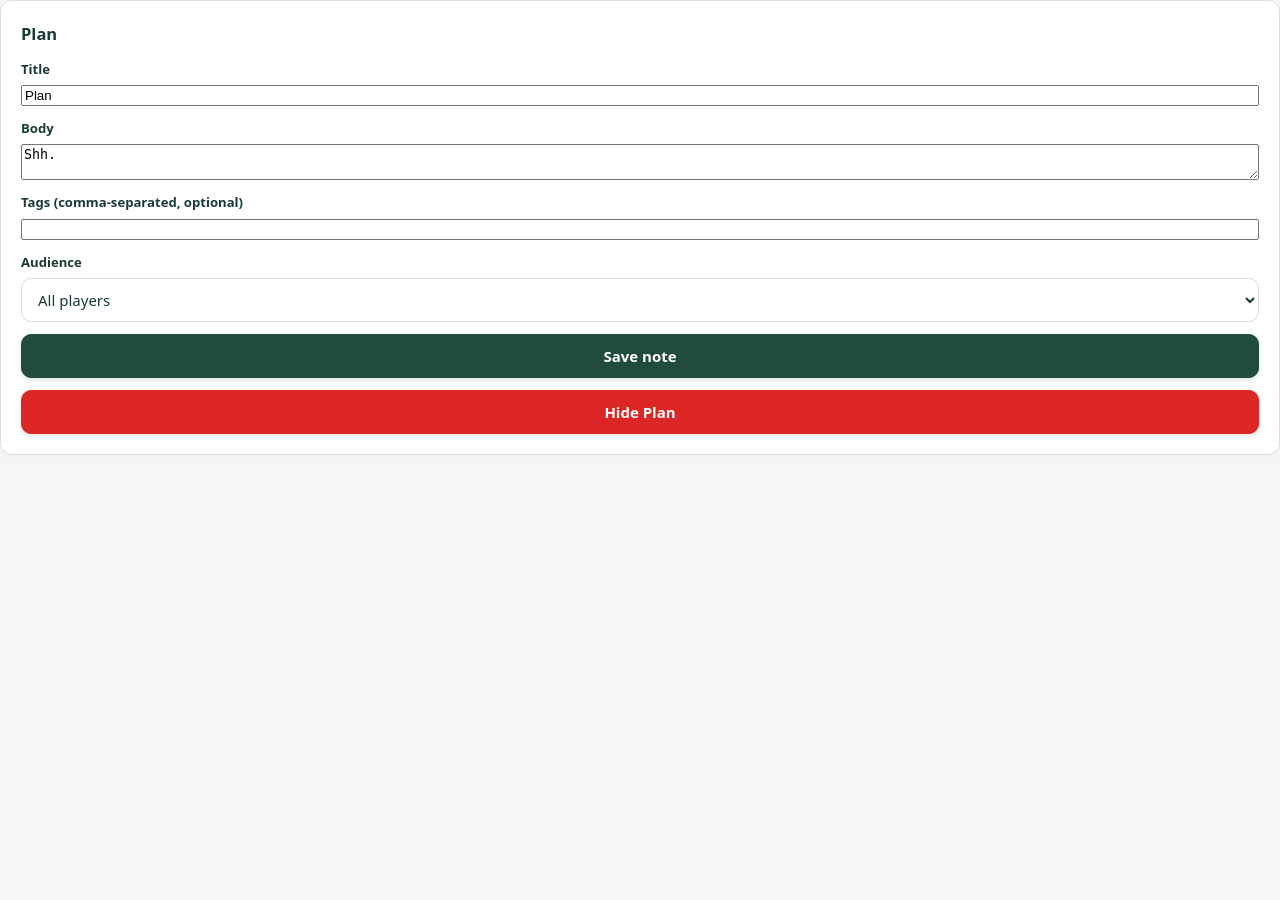
it: ContentEditor › disables Save and hides edit controls while the note is deleted
What coordinates should you click on to do the following:
click the button "Hide Plan"
I would click on:
 (640, 412)
Its box is [21,390,1259,434].
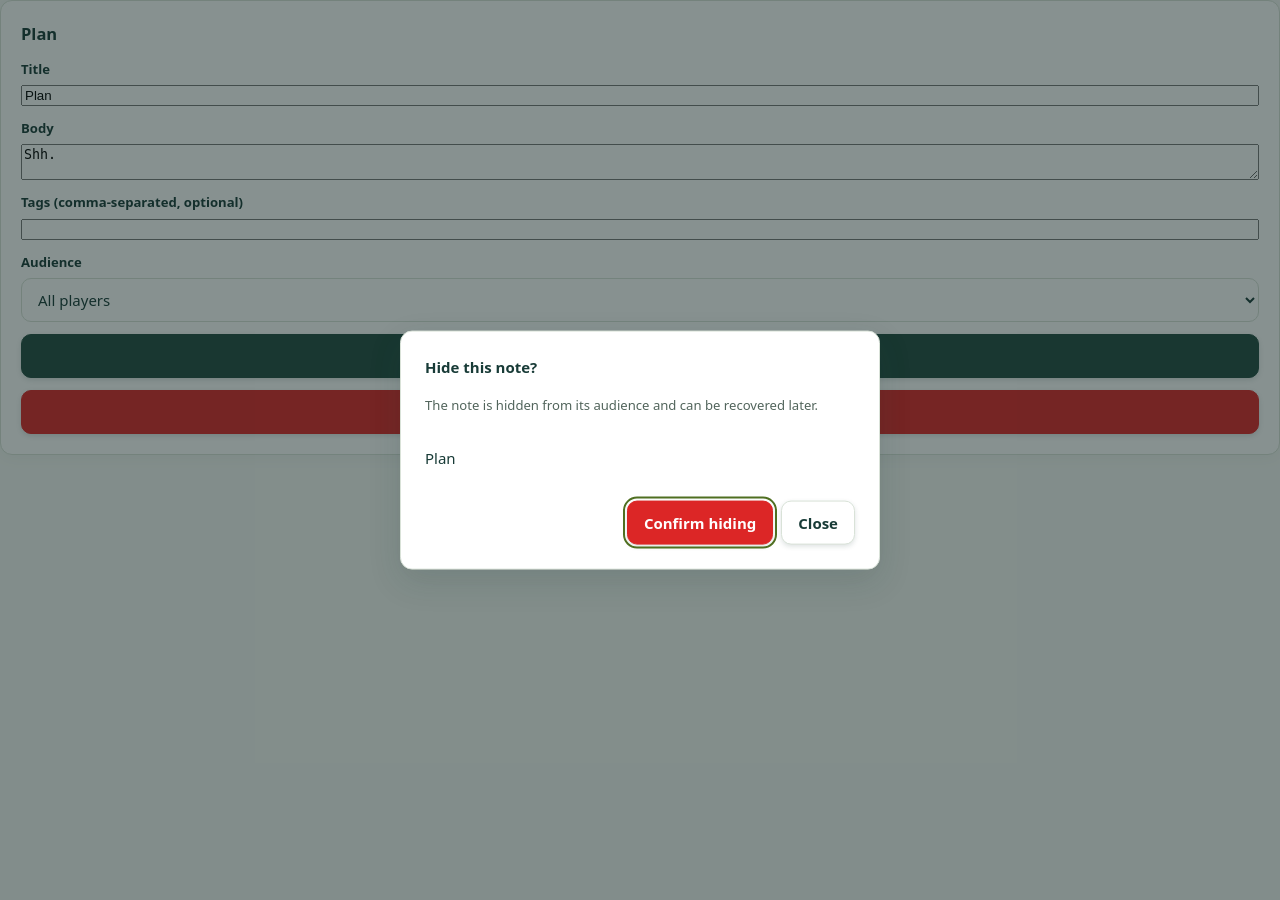
What coordinates should you click on to do the following:
click the button "Confirm hiding"
I would click on:
 (700, 522)
Its box is [627,500,773,544].
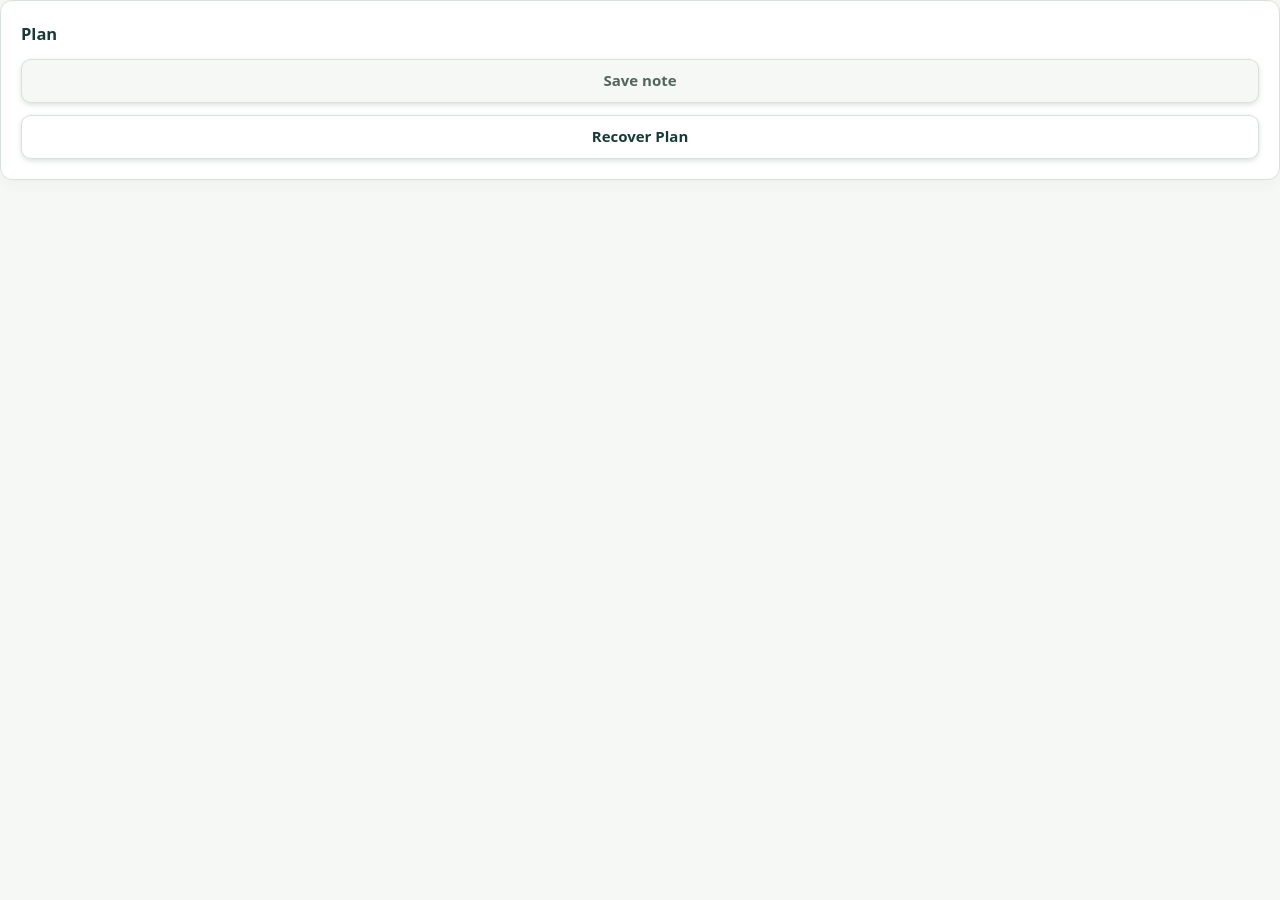
Now the button "Save note" is disabled, box [21,59,1259,103]
Now the label labelled "Title" is gone
